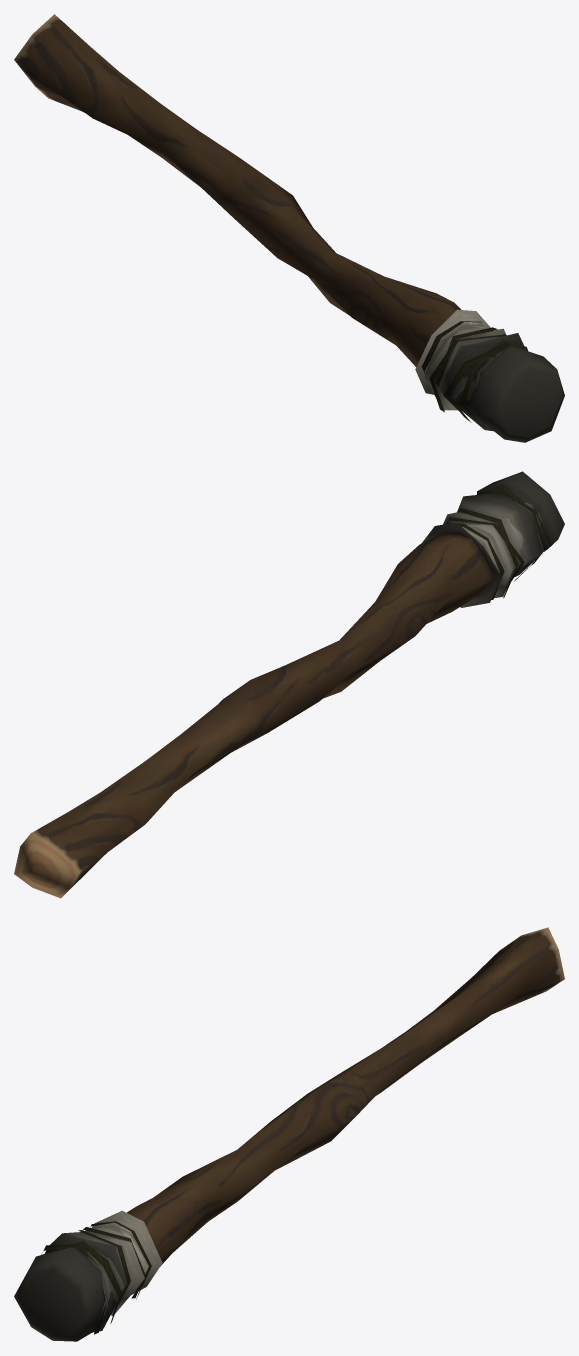
File: Weapon_Sword_043.glb
3 views of the same model, one above another, from view 1: azimuth 30°, elevation 25°; view 2: azimuth 150°, elevation 25°; view 3: azimuth 330°, elevation 25° (orthographic).
Visible parts, largest first — view 1: Weapon_Sword_043; view 2: Weapon_Sword_043; view 3: Weapon_Sword_043.
Part boxes in pixels (x1=…): Weapon_Sword_043: x1=14, y1=14, x2=564, y2=442; Weapon_Sword_043: x1=14, y1=471, x2=564, y2=898; Weapon_Sword_043: x1=14, y1=927, x2=564, y2=1341.
Bounding box in the file's own units: 0.1191 × 0.1076 × 1.07.
Materials: 1 (1 with a texture image).
